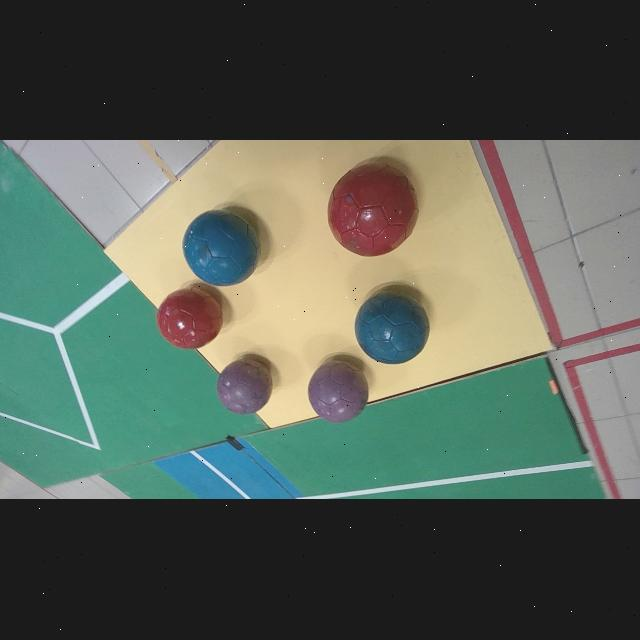B: (182, 212, 260, 286), (354, 293, 429, 365)
P: (308, 361, 368, 424), (217, 360, 272, 415)
R: (328, 164, 419, 257), (156, 289, 223, 350)
